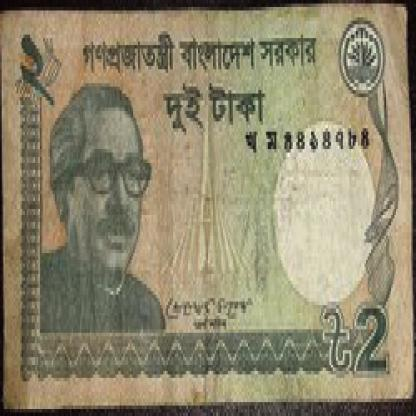two taka: (13, 31, 85, 114), (348, 309, 402, 382)
